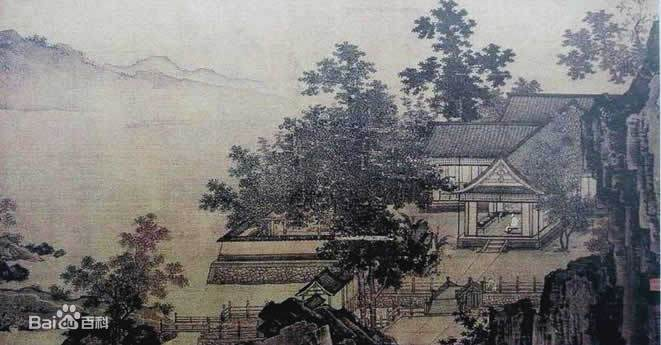booth: (299, 263, 374, 309), (262, 209, 288, 236)
bridge: (424, 275, 482, 319)
house: (420, 88, 610, 256)
man: (505, 209, 520, 234), (486, 274, 498, 293)
range: (3, 30, 276, 110)
river: (8, 97, 225, 262), (159, 272, 308, 308)
tree: (222, 41, 421, 226), (57, 219, 186, 344), (396, 2, 496, 119), (536, 181, 587, 252)
wall: (217, 215, 348, 267)
